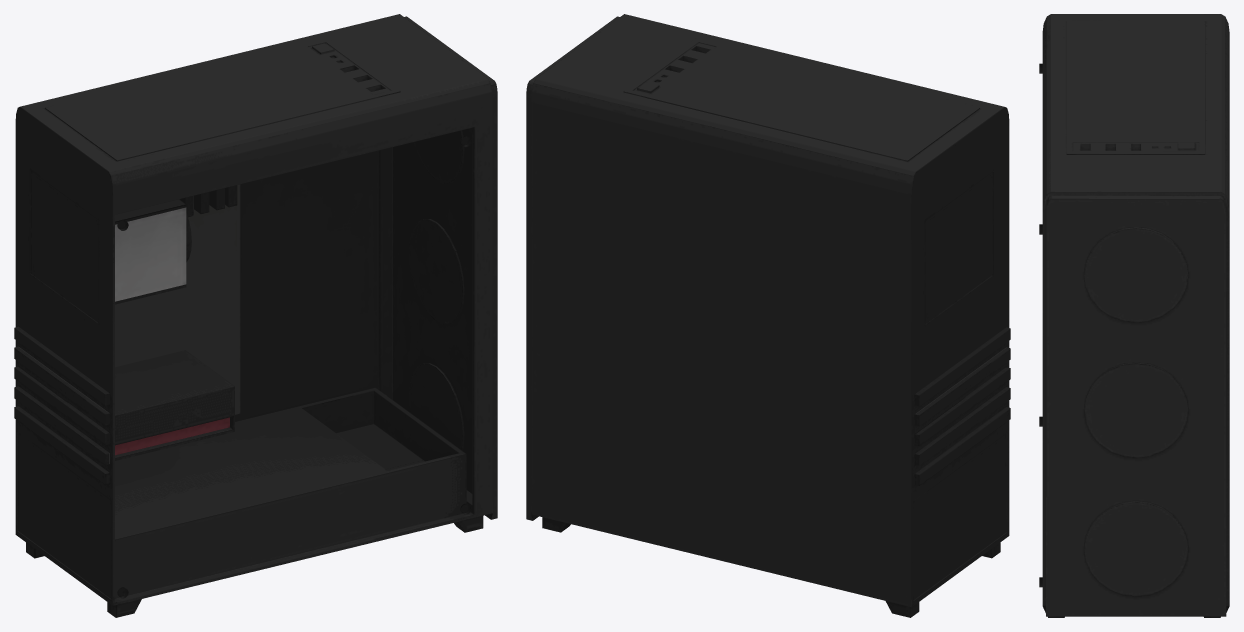
3 views of the same model, side by side, from view 1: azimuth 30°, elevation 25°; view 2: azimuth 150°, elevation 25°; view 3: azimuth 270°, elevation 25° (orthographic). The views are drawn at different scales.
Visible parts, largest first — view 1: PC; view 2: PC; view 3: PC.
Part boxes in pixels (x1,y1,x2,y2): PC: [14, 14, 497, 617]; PC: [526, 14, 1010, 617]; PC: [1039, 14, 1229, 617].
Size of the model in its own units: 0.4654 by 0.5085 by 0.2035.
Materials: 4 (4 with a texture image).
